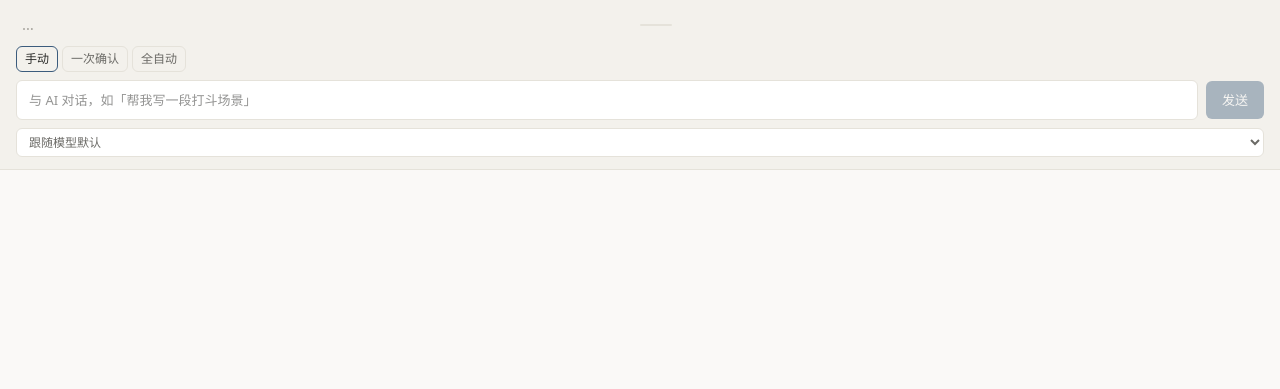
Test case: ChatPanel — 布局顺序修正（#642-2） › ①顶部行=toggle+resize / ②输入框在消息区下方 / ③底部=整轮操作 / 每条 AI 回复后跟复制+插入
Note: 发送一条消息（content 意图），展开消息区 + 渲染 per-message 复制/插入
Type "写一段正文" into the text box with test id "chat-input" at {"x": 607, "y": 100}, box [16, 80, 1198, 120]
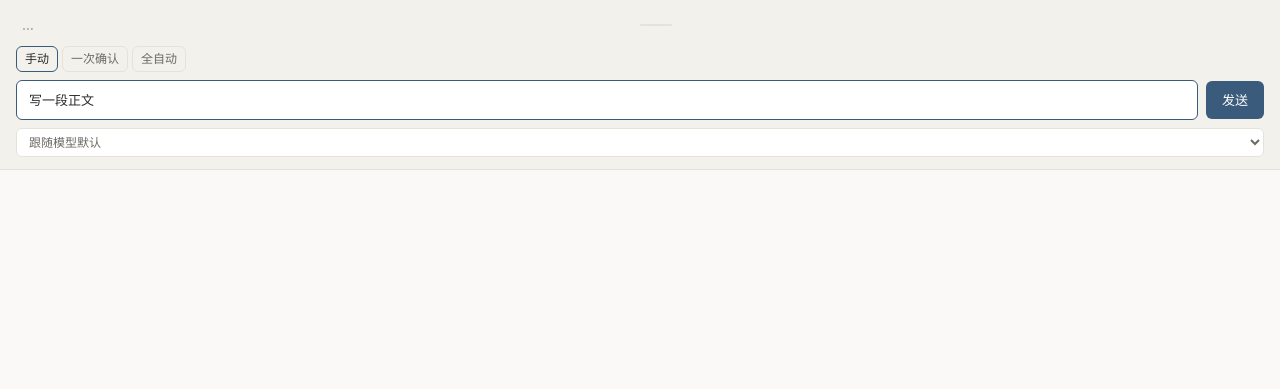
Click the button with test id "chat-send" at {"x": 1235, "y": 100}, box [1206, 81, 1264, 119]
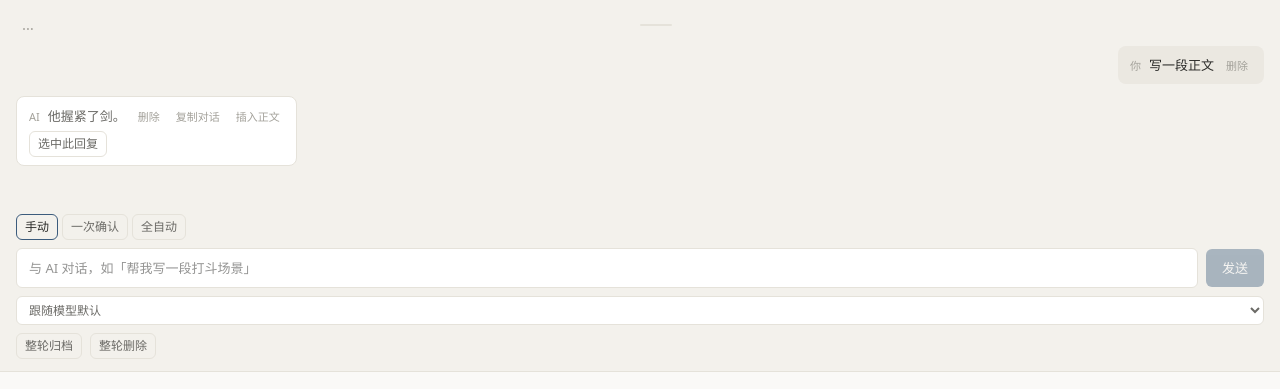
expect the element with test id "chat-messages" is shown: met, box [16, 46, 1264, 206]
expect the button with test id "chat-copy-0" is shown: met, box [172, 108, 224, 126]
expect the button with test id "chat-insert-0" is shown: met, box [232, 108, 284, 126]
